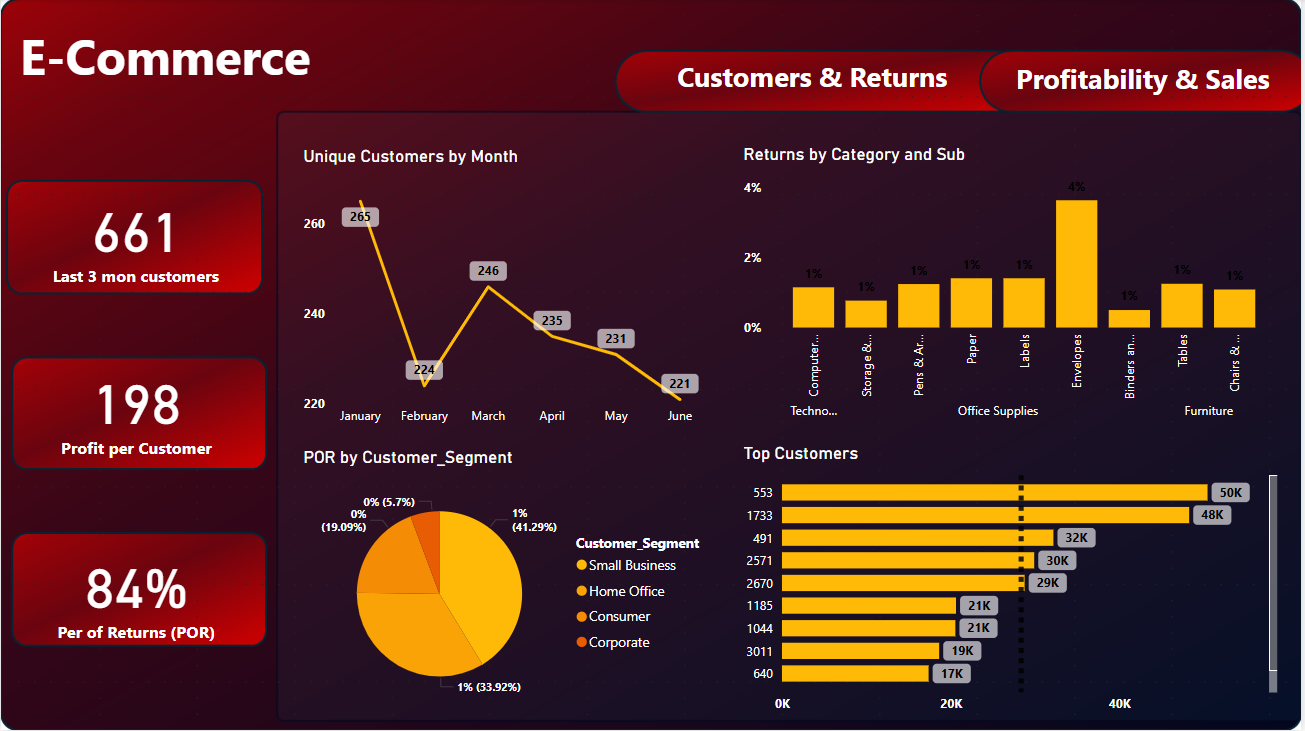

What the dashboard file says about the page in this screenshot:
{"tool":"powerbi","page":{"name":"Customer Acquisition, Retention & Returns raw","canvas":[1280,720],"ordinal":1},"visuals":[{"type":"columnChart","title":"Returns by Category and Sub","fields":{"Category":["Products.Product_Category","Products.Product_Sub-Category"],"Y":["_Measures.Per of Returns (POR)"]},"box":[726.4,143.1,535.6,284.9],"z":0},{"type":"card","fields":{"Values":["_Measures.Last 6 mon customers"]},"box":[9.8,182.2,246.2,103.4],"z":1000},{"type":"lineChart","fields":{"Y":["_Measures.Total Customers"],"Category":["Calender.Date.Variation.Date Hierarchy.Month"]},"box":[293.5,144.3,406,284.9],"z":2000},{"type":"card","fields":{"Values":["_Measures.Profit per Customer"]},"box":[11.1,349.5,244.9,108.3],"z":3000},{"type":"clusteredBarChart","title":"Top Customers","fields":{"Category":["Customers.Customer_ID"],"Y":["_Measures.Total Revenue"]},"box":[726.4,436.6,535.6,275.1],"z":4000},{"type":"pieChart","fields":{"Category":["Customers.Customer_Segment"],"Y":["_Measures.Per of Returns (POR)"]},"box":[293.5,440.2,406,271.5],"z":5000},{"type":"card","fields":{"Values":["_Measures.Per of Returns (POR)"]},"box":[11.1,524.3,244.9,120.6],"z":6000},{"type":"textbox","box":[979.7,55.4,300.3,51.7],"z":7000},{"type":"actionButton","box":[621.5,55.4,337.2,49.2],"z":8000},{"type":"actionButton","box":[973.5,57.8,302.8,46.8],"z":9000},{"type":"textbox","box":[638.8,52.9,320,57.8],"z":10000},{"type":"textbox","box":[13.5,18.5,500.9,73.8],"z":11000}]}

Visuals, with their boxes in screenshot pixels (x1, y1, x2, y2), scaled from the page's 1280x720 canvas onto the 1305x731 screenshot:
"Returns by Category and Sub" columnChart: <box>741,145,1287,435</box>
card - _Measures.Last 6 mon customers: <box>10,185,261,290</box>
lineChart - _Measures.Total Customers x Calender.Date.Variation.Date Hierarchy.Month: <box>299,147,713,436</box>
card - _Measures.Profit per Customer: <box>11,355,261,465</box>
"Top Customers" clusteredBarChart: <box>741,443,1287,723</box>
pieChart - Customers.Customer_Segment x _Measures.Per of Returns (POR): <box>299,447,713,723</box>
card - _Measures.Per of Returns (POR): <box>11,532,261,655</box>
textbox: <box>999,56,1304,109</box>
actionButton: <box>634,56,977,106</box>
actionButton: <box>993,59,1301,106</box>
textbox: <box>651,54,978,112</box>
textbox: <box>14,19,524,94</box>
